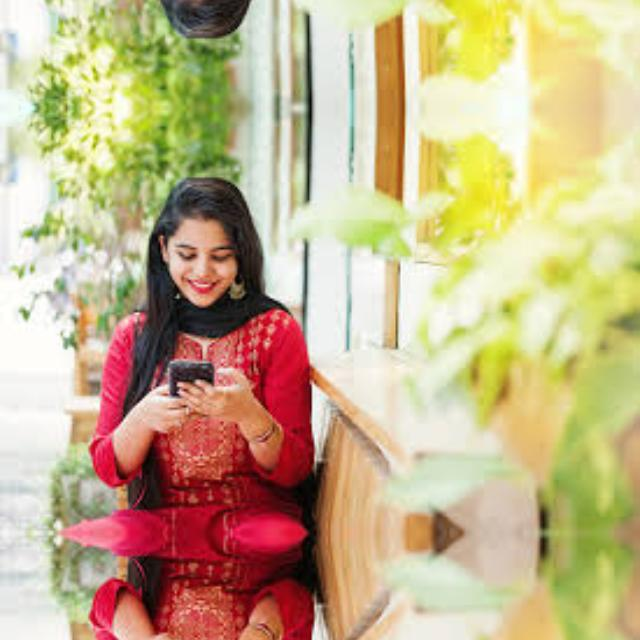person: (68, 153, 318, 533), (68, 533, 318, 640), (68, 0, 318, 61)
